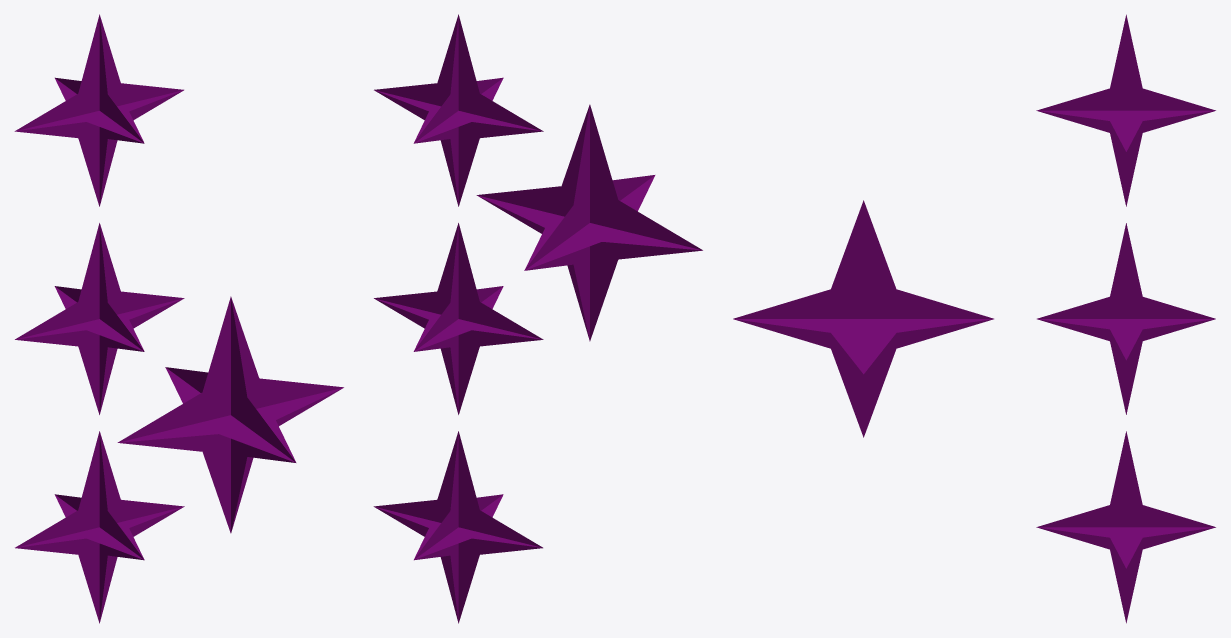
File: model_3093_spotanim.obj
3 renders of one model, left to right at view 1: azimuth 30°, elevation 25°; view 2: azimuth 150°, elevation 25°; view 3: azimuth 270°, elevation 25°, orthographic.
Parts seen in each view (by area): view 1: 3093; view 2: 3093; view 3: 3093.
Part boxes in pixels (x1,y1,x2,y2): 3093: [14, 14, 343, 623]; 3093: [373, 14, 702, 623]; 3093: [733, 14, 1215, 623].
Size of the model in its own units: 32 by 82 by 59.
